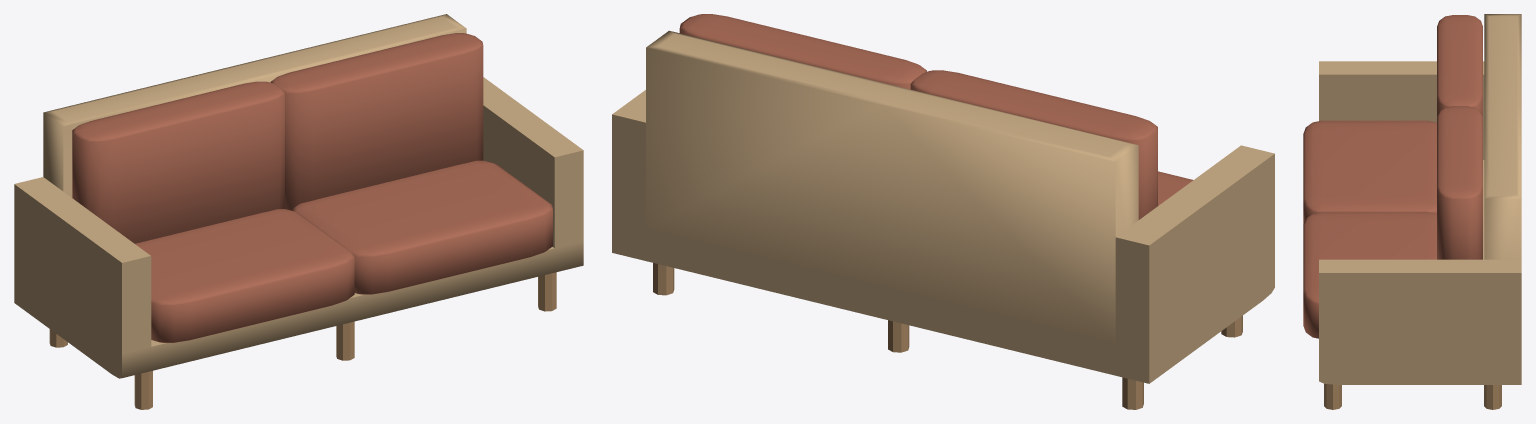
Rendered from Mesh_Fauteuil_02.fbx.
3 views of the same model, side by side, from view 1: azimuth 30°, elevation 25°; view 2: azimuth 150°, elevation 25°; view 3: azimuth 270°, elevation 25° (orthographic). The views are drawn at different scales.
Visible parts, largest first — view 1: Mesh_Fauteuil_02; view 2: Mesh_Fauteuil_02; view 3: Mesh_Fauteuil_02.
Part boxes in pixels (bbox=[...]): Mesh_Fauteuil_02: bbox=[14, 14, 583, 409]; Mesh_Fauteuil_02: bbox=[612, 14, 1274, 409]; Mesh_Fauteuil_02: bbox=[1303, 14, 1521, 409].
Size of the model in its own units: 145 by 66.84 by 63.18.
